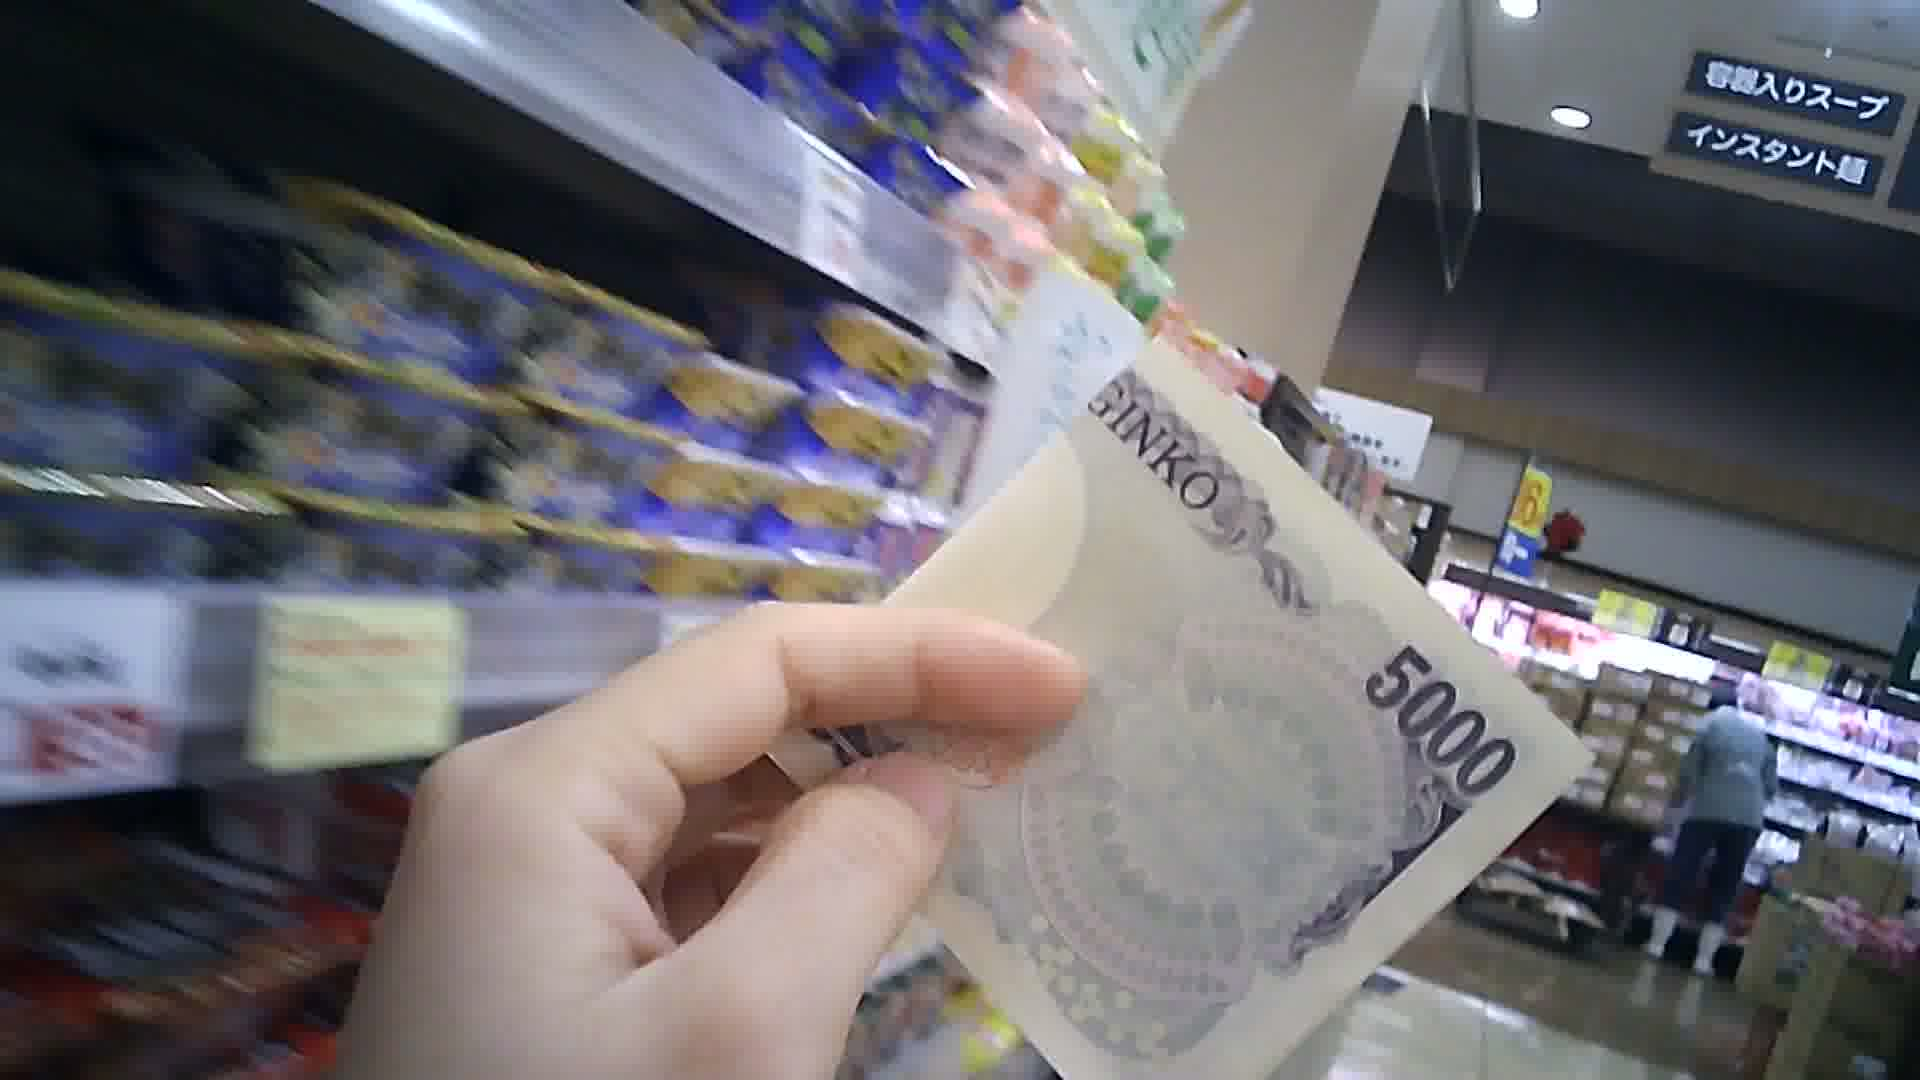5,000 Yen: (750, 302, 1571, 1079)
